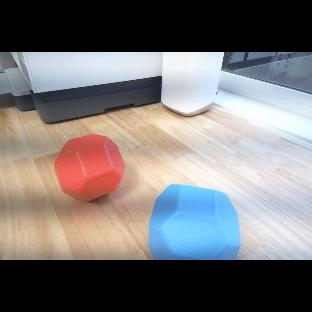V5_BLUE: (148, 184, 242, 260)
V5_RED: (54, 134, 125, 205)
